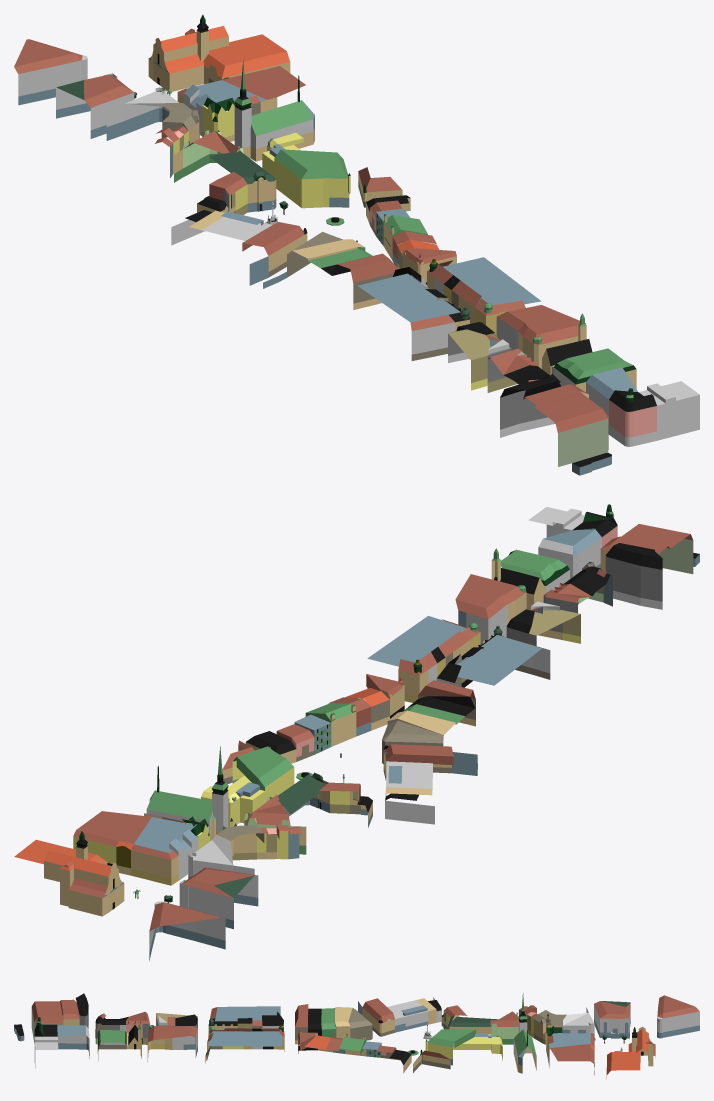
File: brno ulice.fbx
3 views of the same model, one above another, from view 1: azimuth 30°, elevation 25°; view 2: azimuth 150°, elevation 25°; view 3: azimuth 270°, elevation 25° (orthographic). The views are drawn at different scales.
Visible parts, largest first — view 1: domy vpravo, domy vlevo; view 2: domy vpravo, domy vlevo; view 3: domy vlevo, domy vpravo.
Part boxes in pixels (bbox=[...]): domy vpravo: bbox=[148, 14, 699, 446]; domy vlevo: bbox=[14, 39, 611, 475]; domy vpravo: bbox=[14, 504, 617, 916]; domy vlevo: bbox=[149, 524, 699, 961]; domy vlevo: bbox=[14, 993, 699, 1044]; domy vpravo: bbox=[34, 993, 655, 1078].
Size of the model in its own units: 26166 by 9504 by 96694.
